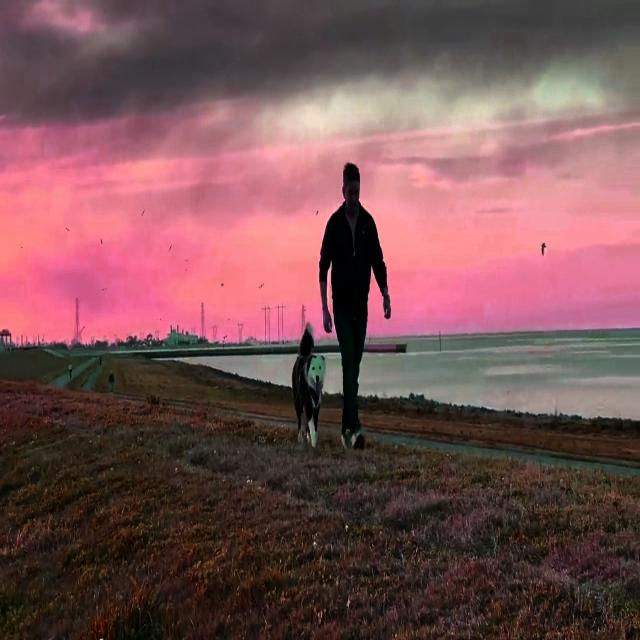Unleashed_Dog: (292, 312, 364, 448)
